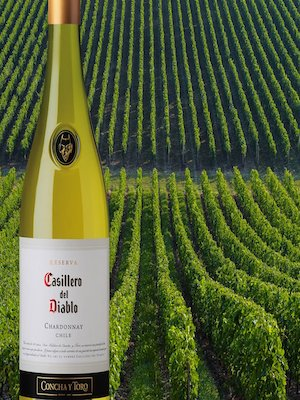casillero del diablo chardonnay: (18, 11, 119, 400)
